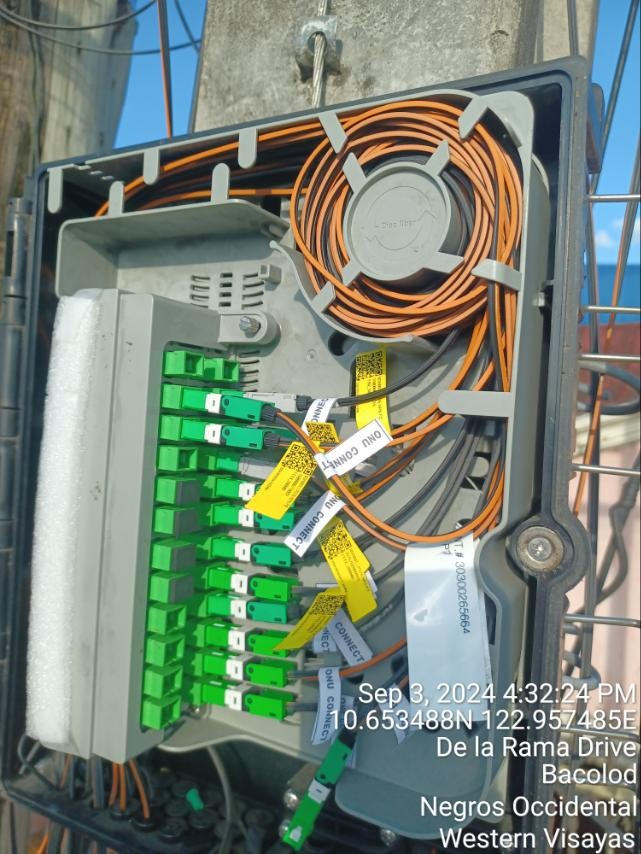no dust cap: (160, 697, 180, 730), (161, 668, 182, 698), (164, 636, 184, 666), (166, 607, 185, 633), (185, 352, 204, 376), (177, 448, 197, 470), (223, 359, 239, 381)
occupied: (200, 678, 298, 723), (182, 387, 280, 426), (216, 449, 302, 492), (208, 620, 301, 659), (181, 418, 279, 454), (203, 649, 299, 685), (207, 593, 305, 627), (206, 567, 300, 602), (217, 479, 311, 512), (217, 423, 305, 457), (219, 390, 314, 420), (212, 505, 306, 535), (212, 540, 306, 570)
vacant: (176, 479, 202, 507), (169, 574, 193, 604), (176, 508, 199, 539), (173, 544, 197, 570)
